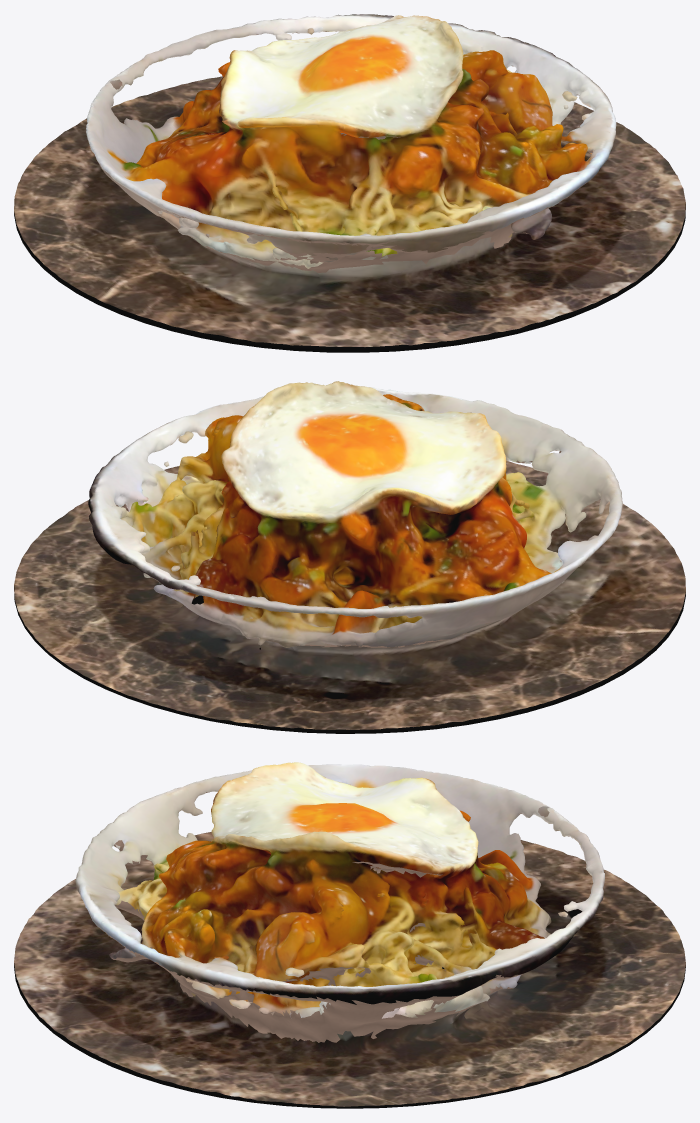
File: american_chop_suey_scans_with_iphone12_pro.glb
3 renders of one model, top to bottom at view 1: azimuth 30°, elevation 25°; view 2: azimuth 150°, elevation 25°; view 3: azimuth 270°, elevation 25°, orthographic.
Visible parts, largest first — view 1: model_0; view 2: model_0; view 3: model_0.
Part boxes in pixels (<box>): model_0: <box>14,14,685,352</box>; model_0: <box>14,381,685,733</box>; model_0: <box>14,762,685,1108</box>.
Size of the model in its own units: 3.75 by 1.08 by 3.75.
3 materials, 3 textured.
